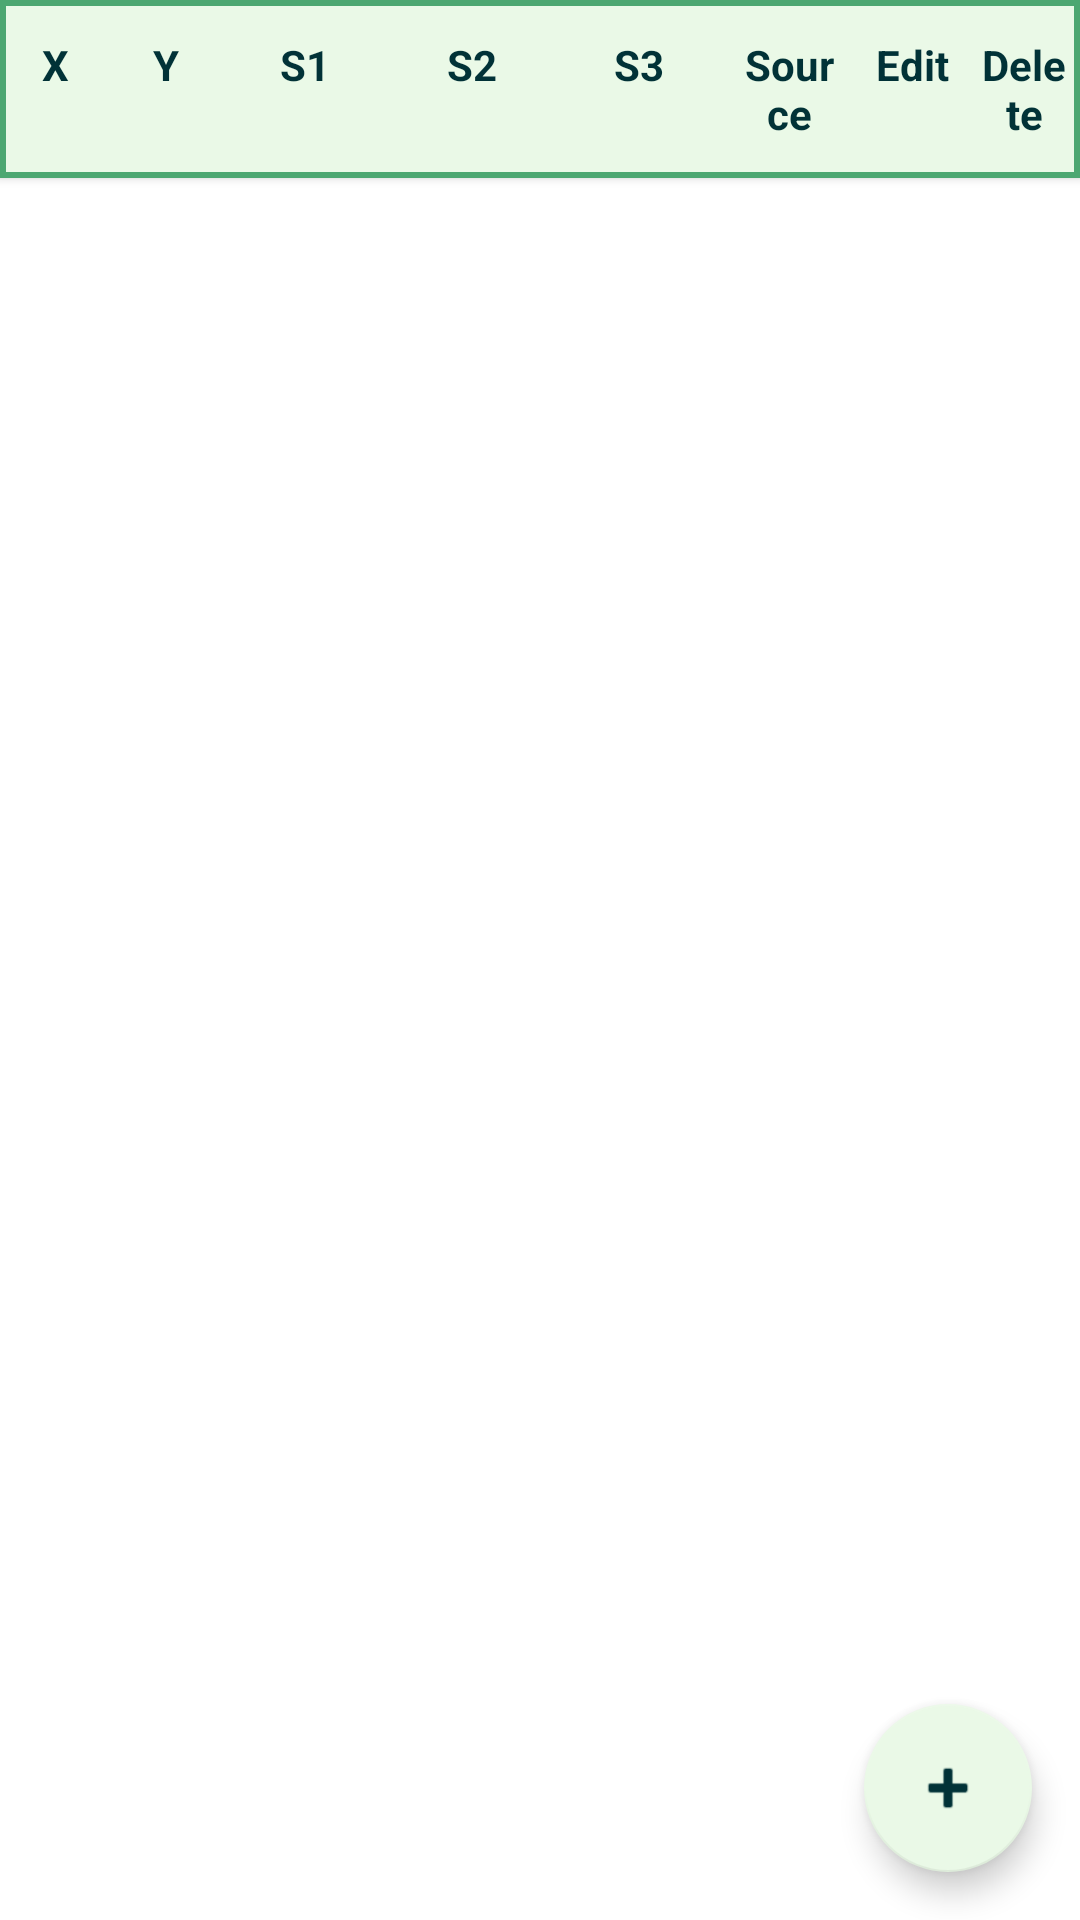

Where icons sit on this 1080 x 1920 app screen, as bbox(x1, y1, x2, y2):
Add new coordinate: bbox(864, 1704, 1032, 1872)
